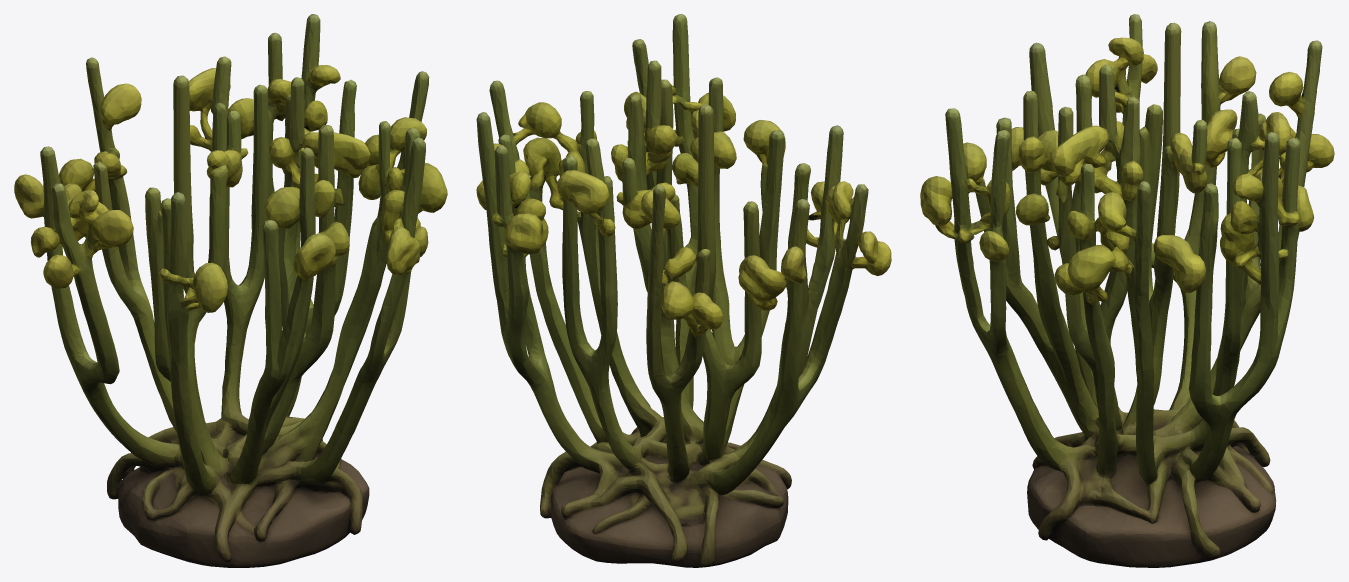
The picture shows the model from 3 angles, left to right: view 1: azimuth 30°, elevation 25°; view 2: azimuth 150°, elevation 25°; view 3: azimuth 270°, elevation 25°; orthographic projection. The views are drawn at different scales.
Visible parts, largest first — view 1: world; view 2: world; view 3: world.
Boxes of the visible parts, x1,y1,x2,y2 form: world: (14,14,447,567); world: (476,14,891,567); world: (920,14,1334,567).
Size of the model in its own units: 0.2288 by 0.25 by 0.199.
Materials: 1 (1 with a texture image).
